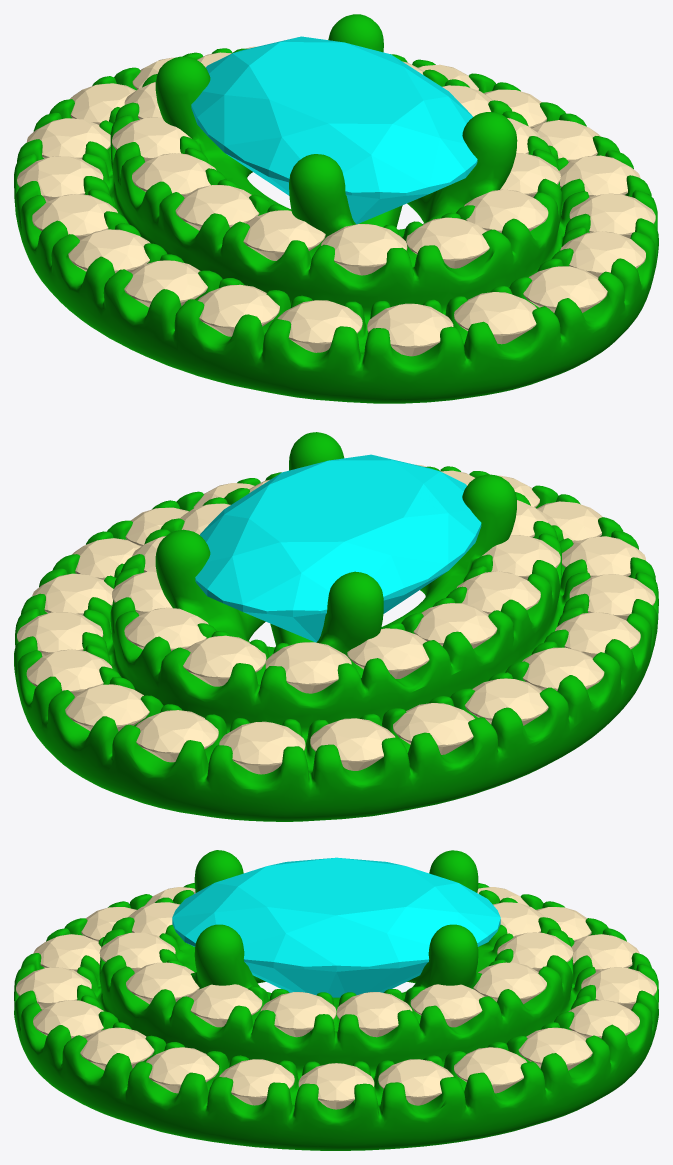
The picture shows the model from 3 angles, top to bottom: view 1: azimuth 30°, elevation 25°; view 2: azimuth 150°, elevation 25°; view 3: azimuth 270°, elevation 25°; orthographic projection. The views are drawn at different scales.
Parts seen in each view (by area): view 1: Metal01, Diamond_Oval, Diamond_Round.015, Diamond_Round.016, Diamond_Round.023, Diamond_Round.014, Diamond_Round.024, Diamond_Round.017, Diamond_Round.013, Diamond_Round.012, Diamond_Round.022, Diamond_Round.011 (+16 smaller); view 2: Metal01, Diamond_Oval, Diamond_Round.007, Diamond_Round.006, Diamond_Round.032, Diamond_Round.008, Diamond_Round.031, Diamond_Round.005, Diamond_Round.009, Diamond_Round.010, Diamond_Round.033, Diamond_Round.020 (+16 smaller); view 3: Metal01, Diamond_Oval, Diamond_Round.002, Diamond_Round.027, Diamond_Round.028, Diamond_Round, Diamond_Round.001, Diamond_Round.019, Diamond_Round.003, Diamond_Round.030, Diamond_Round.025, Diamond_Round.026 (+15 smaller).
Part boxes in pixels (bbox=[...]): Metal01: bbox=[14, 14, 658, 403]; Diamond_Oval: bbox=[191, 36, 477, 224]; Diamond_Round.015: bbox=[367, 303, 453, 356]; Diamond_Round.016: bbox=[454, 292, 536, 344]; Diamond_Round.023: bbox=[321, 224, 407, 275]; Diamond_Round.014: bbox=[277, 300, 362, 352]; Diamond_Round.024: bbox=[406, 217, 489, 268]; Diamond_Round.017: bbox=[523, 266, 607, 312]; Diamond_Round.013: bbox=[197, 284, 279, 336]; Diamond_Round.012: bbox=[124, 260, 207, 307]; Diamond_Round.022: bbox=[243, 210, 325, 260]; Diamond_Round.011: bbox=[68, 229, 150, 273]; Metal01: bbox=[14, 432, 658, 821]; Diamond_Oval: bbox=[195, 454, 481, 642]; Diamond_Round.007: bbox=[219, 721, 305, 774]; Diamond_Round.006: bbox=[136, 710, 218, 762]; Diamond_Round.032: bbox=[265, 642, 351, 693]; Diamond_Round.008: bbox=[310, 718, 395, 770]; Diamond_Round.031: bbox=[183, 635, 266, 686]; Diamond_Round.005: bbox=[65, 684, 149, 731]; Diamond_Round.009: bbox=[393, 703, 474, 754]; Diamond_Round.010: bbox=[464, 678, 548, 725]; Diamond_Round.033: bbox=[347, 628, 429, 678]; Diamond_Round.020: bbox=[413, 603, 497, 648]; Metal01: bbox=[14, 850, 658, 1150]; Diamond_Oval: bbox=[172, 857, 500, 997]; Diamond_Round.002: bbox=[378, 1059, 453, 1105]; Diamond_Round.027: bbox=[260, 992, 336, 1037]; Diamond_Round.028: bbox=[336, 992, 412, 1037]; Diamond_Round: bbox=[219, 1059, 294, 1105]; Diamond_Round.001: bbox=[298, 1063, 374, 1109]; Diamond_Round.019: bbox=[146, 1047, 219, 1093]; Diamond_Round.003: bbox=[454, 1047, 526, 1093]; Diamond_Round.030: bbox=[473, 962, 546, 1004]; Diamond_Round.025: bbox=[126, 962, 199, 1004]; Diamond_Round.026: bbox=[189, 984, 262, 1027].
Size of the model in its own units: 10.64 by 5.52 by 12.76.
